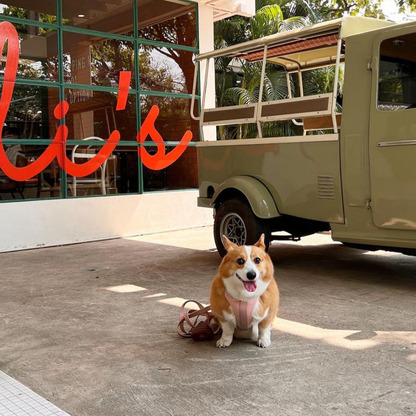Corgi: (195, 219, 286, 355)
